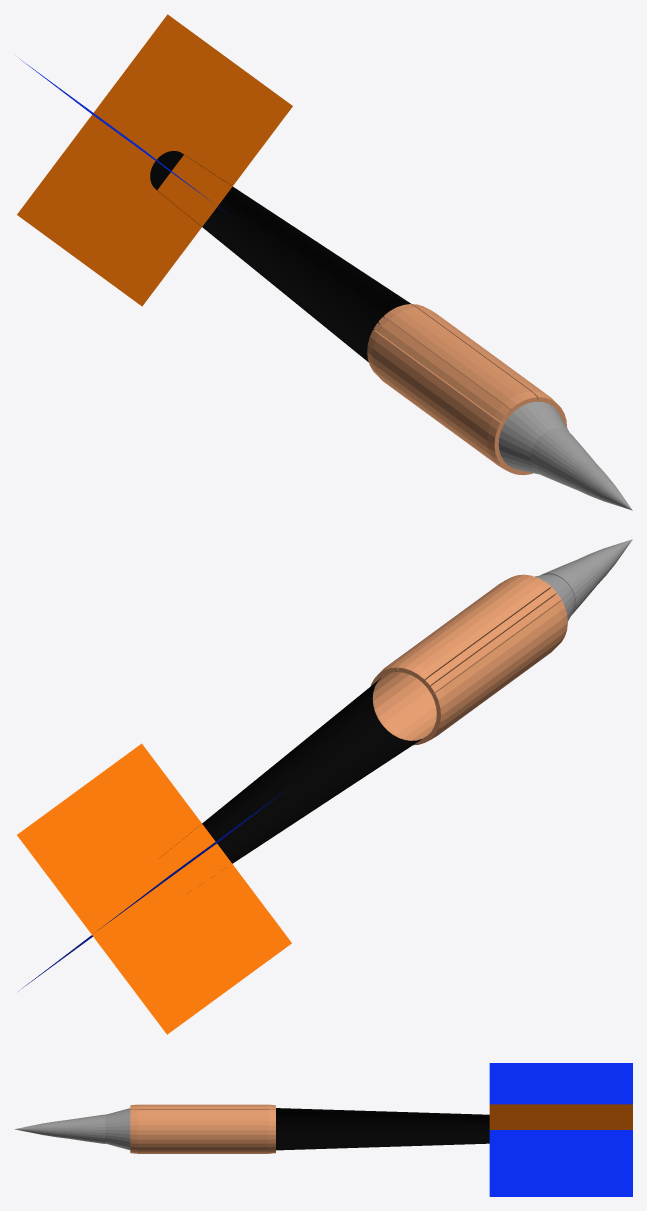
The model's file is dart.glb.
3 renders of one model, top to bottom at view 1: azimuth 30°, elevation 25°; view 2: azimuth 150°, elevation 25°; view 3: azimuth 270°, elevation 25°, orthographic. The views are drawn at different scales.
Parts seen in each view (by area): view 1: Cone; view 2: Cone; view 3: Cone.
Part boxes in pixels (x1,y1,x2,y2): Cone: (17, 14, 632, 510); Cone: (17, 539, 632, 1034); Cone: (15, 1063, 632, 1196).
Bounding box in the file's own units: 0.0378 × 0.0378 × 0.2268.
